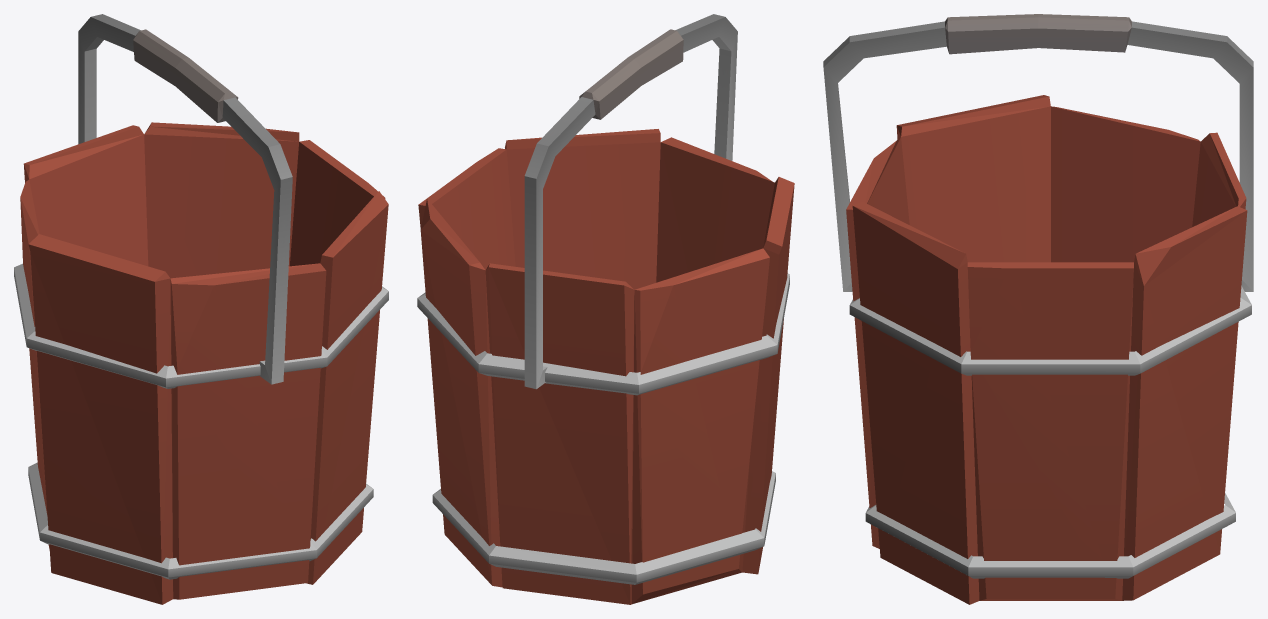
The model's file is bucket1.glb.
3 views of the same model, side by side, from view 1: azimuth 30°, elevation 25°; view 2: azimuth 150°, elevation 25°; view 3: azimuth 270°, elevation 25° (orthographic). The views are drawn at different scales.
Parts seen in each view (by area): view 1: Bucket1; view 2: Bucket1; view 3: Bucket1.
Part boxes in pixels (box(x1,y1,x2,y2)): Bucket1: box(14, 14, 388, 604); Bucket1: box(417, 14, 794, 604); Bucket1: box(823, 14, 1253, 604).
Bounding box in the file's own units: 0.4053 × 0.5806 × 0.4397.
Materials: 1 (1 with a texture image).
